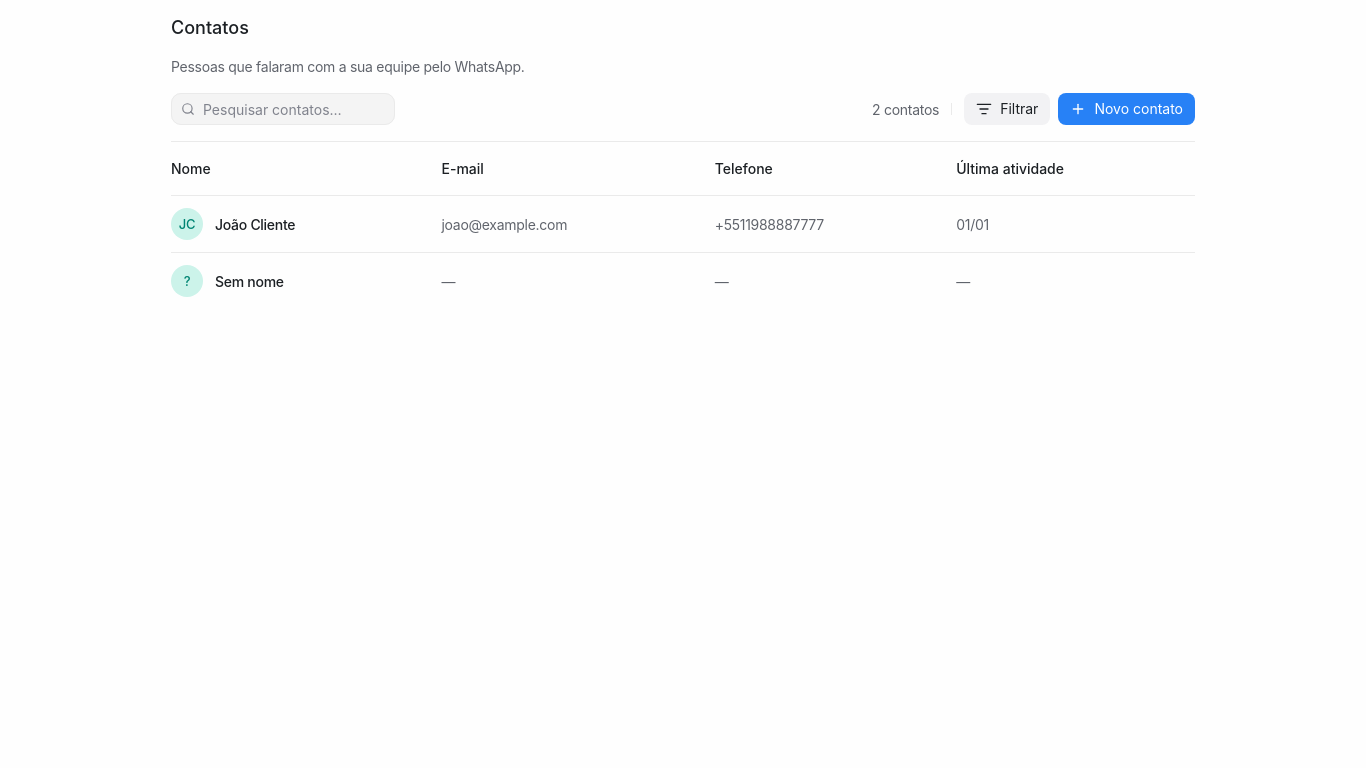
Test: contacts › searches, edits a contact in the side panel and opens a conversation
Expected: the text "Sem nome" is shown, [215, 270, 284, 292]
Expected: the text "2 contatos" is shown, [872, 98, 939, 120]
Click the text "João Cliente".
click(255, 224)  # box [215, 214, 295, 234]
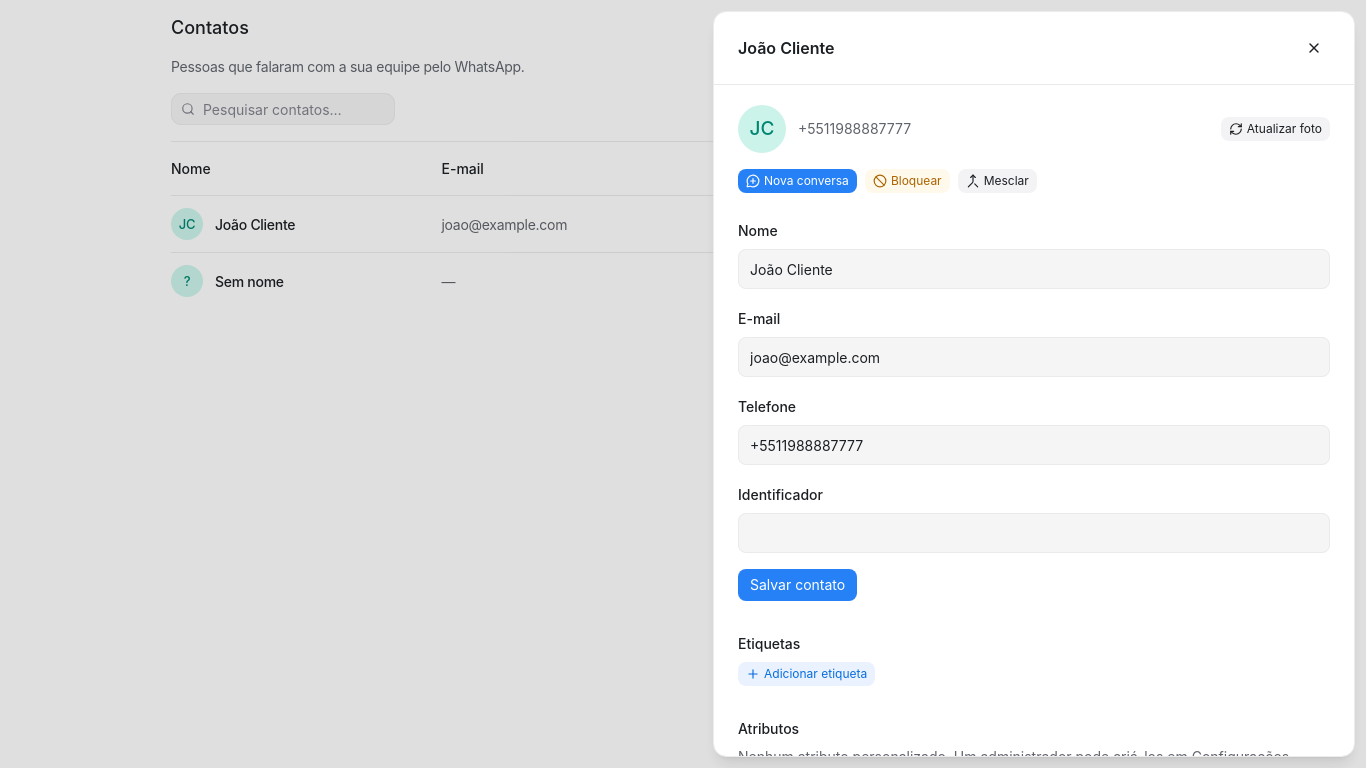
Replace the text in the field labelled "Nome" with "João Silva" at (1034, 269), box [738, 249, 1330, 289]
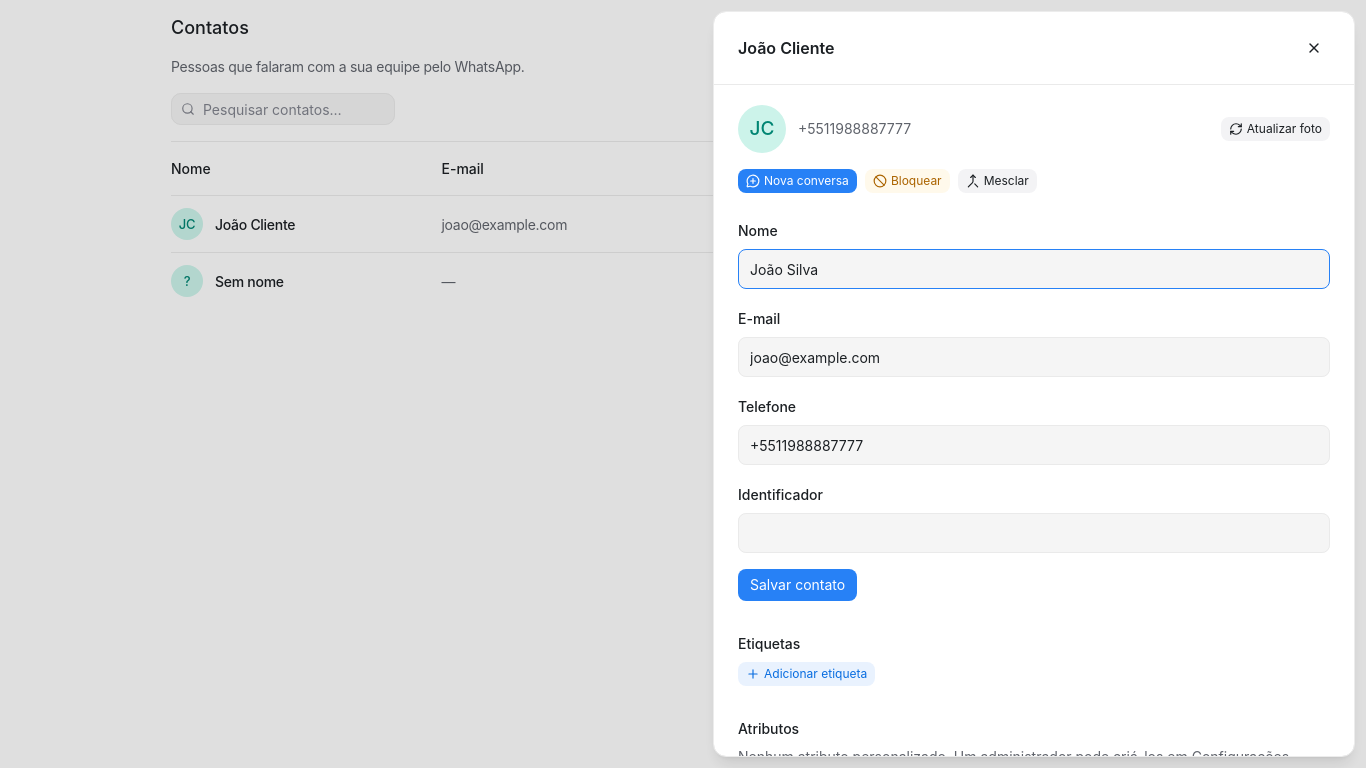
Click the button "Salvar contato".
click(798, 585)  # box [738, 569, 857, 601]
(page scrolled)
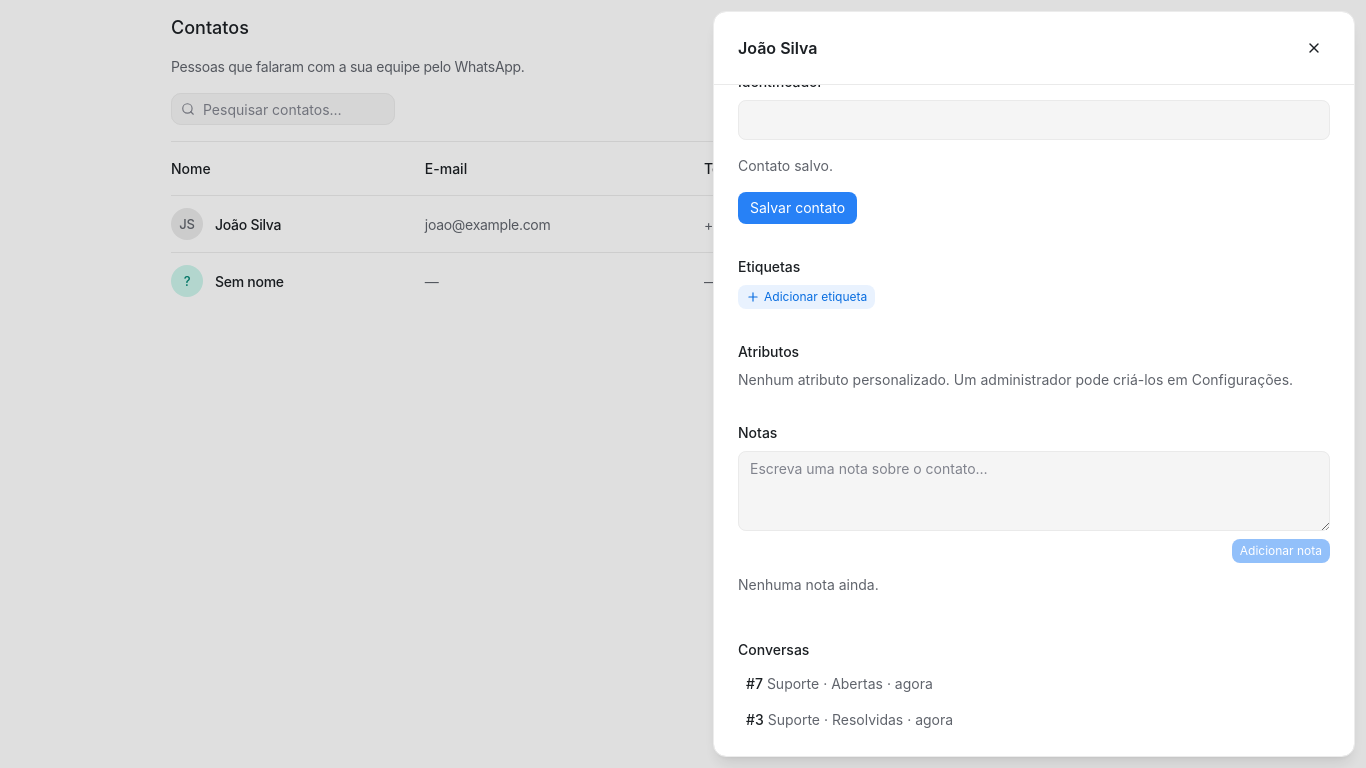
Now the text "Contato salvo." is shown, box [738, 157, 833, 174]
Click the button "#3 Suporte · Resolvidas · agora".
click(794, 720)  # box [738, 704, 1330, 736]
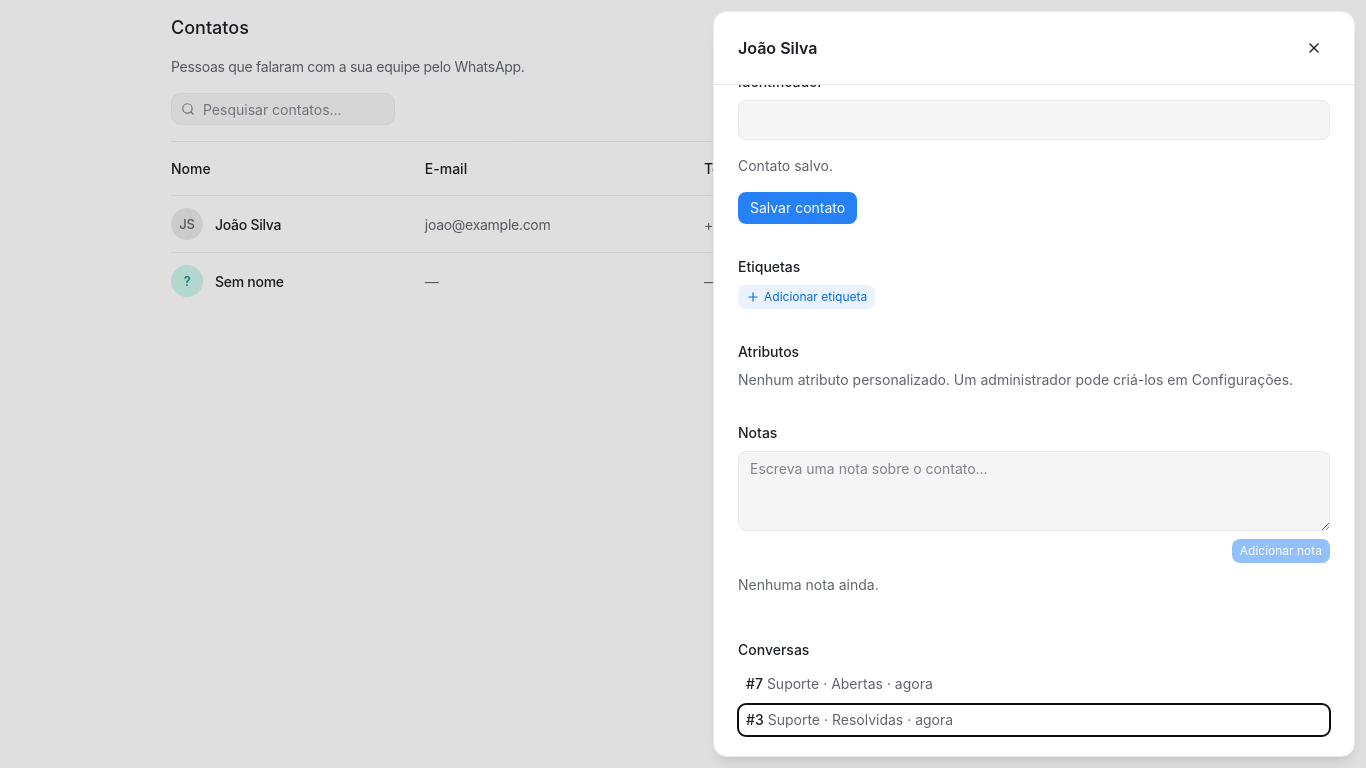
Click the button named "Fechar".
click(1314, 48)  # box [1298, 32, 1330, 64]
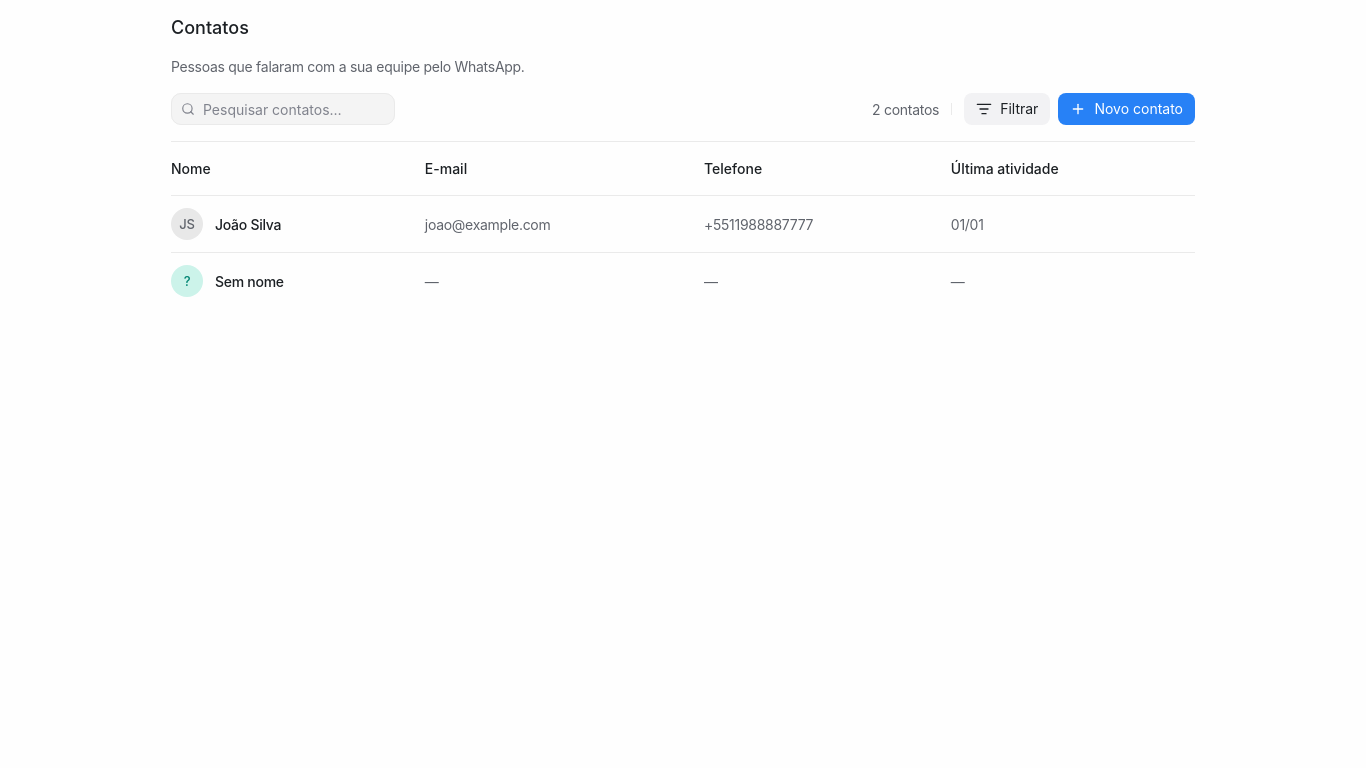
Type "zzz" into the field labelled "Pesquisar contatos…".
click(283, 109); type("zzz")  # box [171, 93, 395, 125]
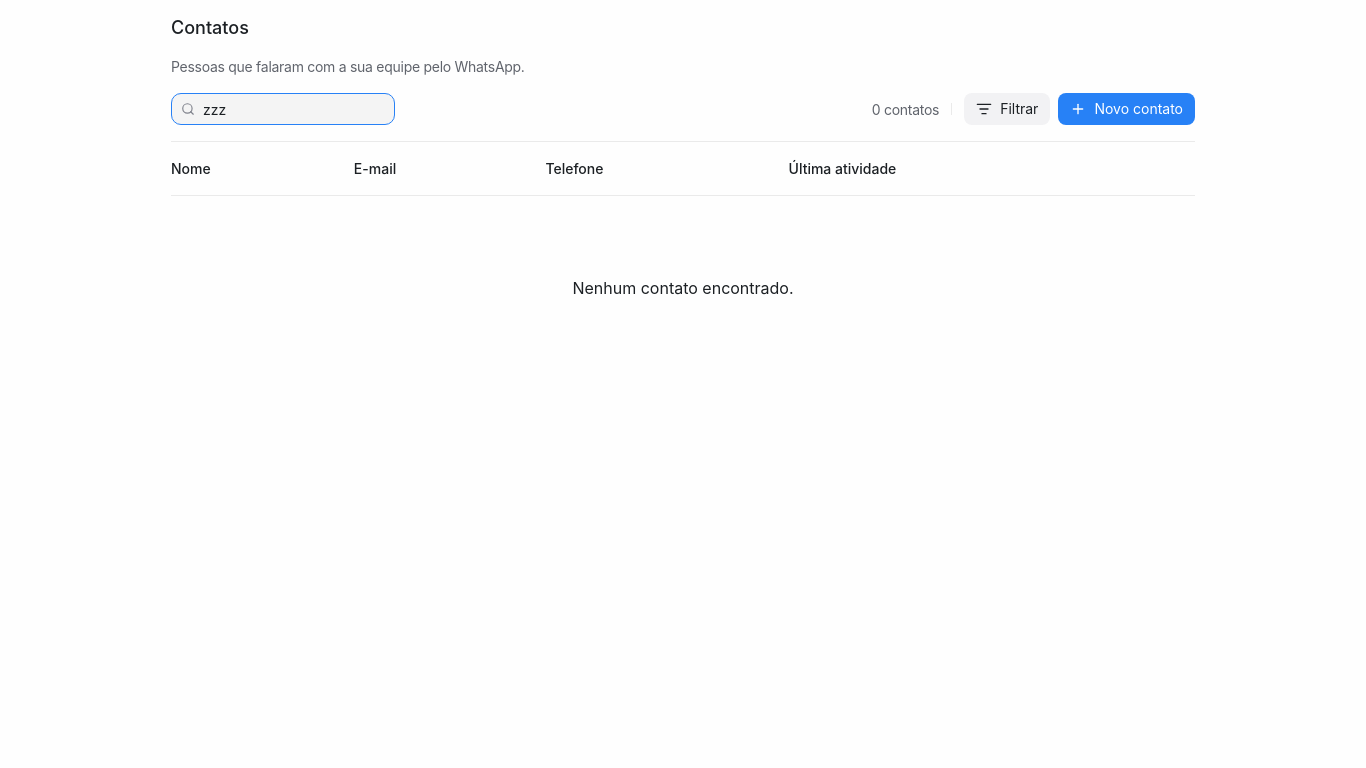
Now the text "Nenhum contato encontrado." is shown, box [171, 196, 1195, 380]
Now the text "0 contatos" is shown, box [872, 98, 939, 120]
